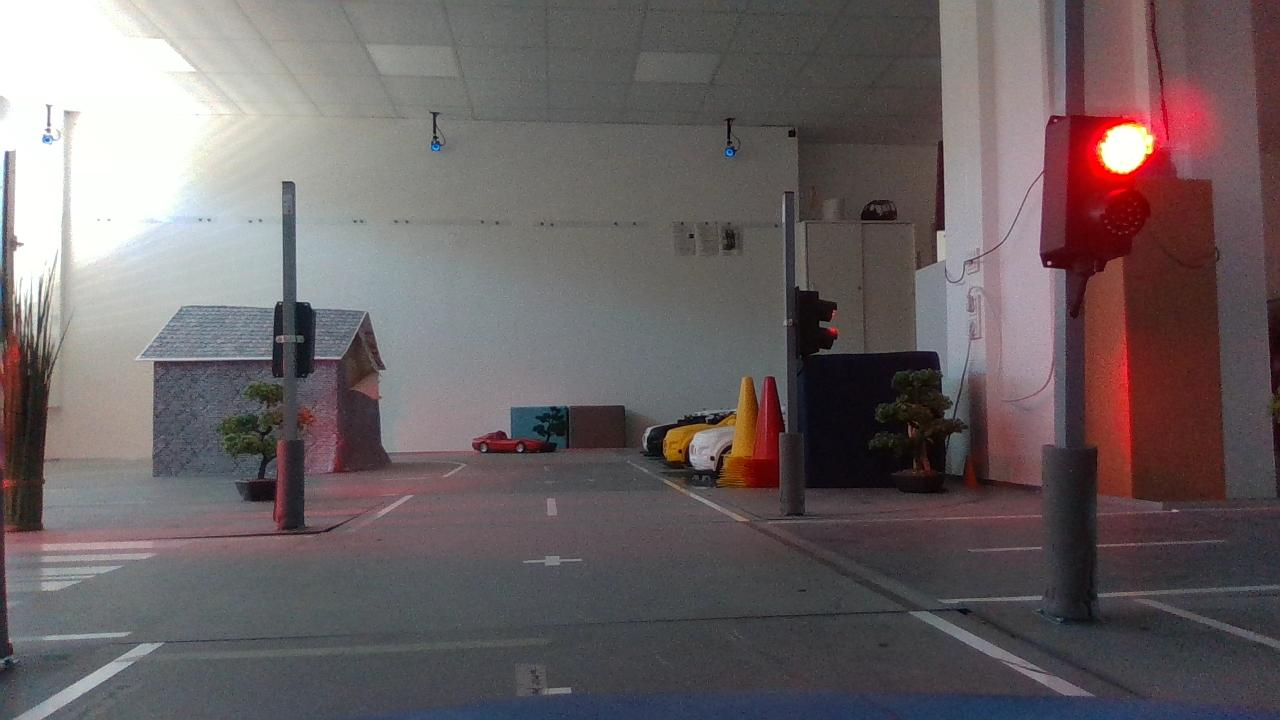traffic_light_red: (1025, 98, 1162, 285)
